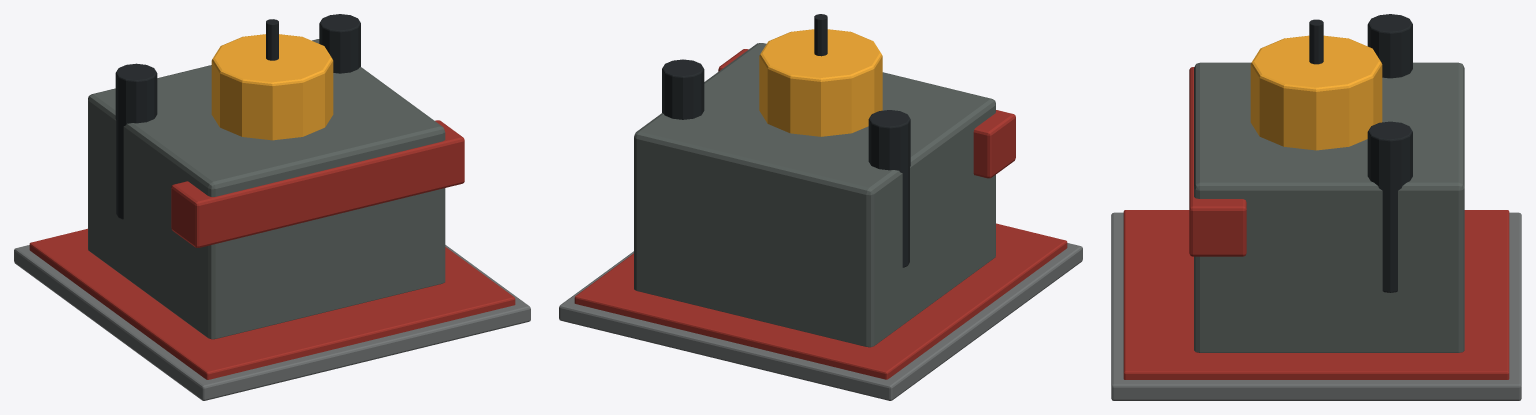
The model's file is SM_Soviet_SU_ConYard.fbx.
The picture shows the model from 3 angles, left to right: view 1: azimuth 30°, elevation 25°; view 2: azimuth 150°, elevation 25°; view 3: azimuth 270°, elevation 25°; orthographic projection. The views are drawn at different scales.
Parts seen in each view (by area): view 1: SM_Soviet_SU_ConYard_MainMass, SM_Soviet_SU_ConYard_FoundationTrim, SM_Soviet_SU_ConYard_ArmourBrow, SM_Soviet_SU_ConYard, SM_Soviet_SU_ConYard_CommandCore, SM_Soviet_SU_ConYard_Exhaust_-1, SM_Soviet_SU_ConYard_Exhaust_+1, SM_Soviet_SU_ConYard_Antenna; view 2: SM_Soviet_SU_ConYard_MainMass, SM_Soviet_SU_ConYard_FoundationTrim, SM_Soviet_SU_ConYard, SM_Soviet_SU_ConYard_CommandCore, SM_Soviet_SU_ConYard_Exhaust_-1, SM_Soviet_SU_ConYard_ArmourBrow, SM_Soviet_SU_ConYard_Exhaust_+1, SM_Soviet_SU_ConYard_Antenna; view 3: SM_Soviet_SU_ConYard_MainMass, SM_Soviet_SU_ConYard_FoundationTrim, SM_Soviet_SU_ConYard_CommandCore, SM_Soviet_SU_ConYard, SM_Soviet_SU_ConYard_Exhaust_+1, SM_Soviet_SU_ConYard_ArmourBrow, SM_Soviet_SU_ConYard_Exhaust_-1, SM_Soviet_SU_ConYard_Antenna.
Boxes of the visible parts, x1=… form: SM_Soviet_SU_ConYard_MainMass: x1=88, y1=39, x2=445, y2=339; SM_Soviet_SU_ConYard_FoundationTrim: x1=29, y1=228, x2=515, y2=379; SM_Soviet_SU_ConYard_ArmourBrow: x1=171, y1=120, x2=464, y2=247; SM_Soviet_SU_ConYard: x1=14, y1=245, x2=530, y2=400; SM_Soviet_SU_ConYard_CommandCore: x1=211, y1=34, x2=333, y2=140; SM_Soviet_SU_ConYard_Exhaust_-1: x1=115, y1=63, x2=157, y2=219; SM_Soviet_SU_ConYard_Exhaust_+1: x1=319, y1=14, x2=360, y2=73; SM_Soviet_SU_ConYard_Antenna: x1=266, y1=19, x2=278, y2=60; SM_Soviet_SU_ConYard_MainMass: x1=634, y1=43, x2=995, y2=347; SM_Soviet_SU_ConYard_FoundationTrim: x1=574, y1=223, x2=1067, y2=379; SM_Soviet_SU_ConYard: x1=559, y1=243, x2=1082, y2=400; SM_Soviet_SU_ConYard_CommandCore: x1=759, y1=29, x2=882, y2=136; SM_Soviet_SU_ConYard_Exhaust_-1: x1=868, y1=110, x2=910, y2=267; SM_Soviet_SU_ConYard_ArmourBrow: x1=718, y1=49, x2=1015, y2=178; SM_Soviet_SU_ConYard_Exhaust_+1: x1=662, y1=59, x2=704, y2=119; SM_Soviet_SU_ConYard_Antenna: x1=814, y1=14, x2=827, y2=56; SM_Soviet_SU_ConYard_MainMass: x1=1194, y1=62, x2=1464, y2=352; SM_Soviet_SU_ConYard_FoundationTrim: x1=1123, y1=210, x2=1509, y2=379; SM_Soviet_SU_ConYard_CommandCore: x1=1250, y1=35, x2=1382, y2=150; SM_Soviet_SU_ConYard: x1=1111, y1=212, x2=1521, y2=400; SM_Soviet_SU_ConYard_Exhaust_+1: x1=1367, y1=121, x2=1412, y2=292; SM_Soviet_SU_ConYard_ArmourBrow: x1=1189, y1=67, x2=1246, y2=256; SM_Soviet_SU_ConYard_Exhaust_-1: x1=1367, y1=14, x2=1412, y2=78; SM_Soviet_SU_ConYard_Antenna: x1=1309, y1=19, x2=1323, y2=64.
Size of what is drawn, in the model's own units: 800 by 800 by 630.
